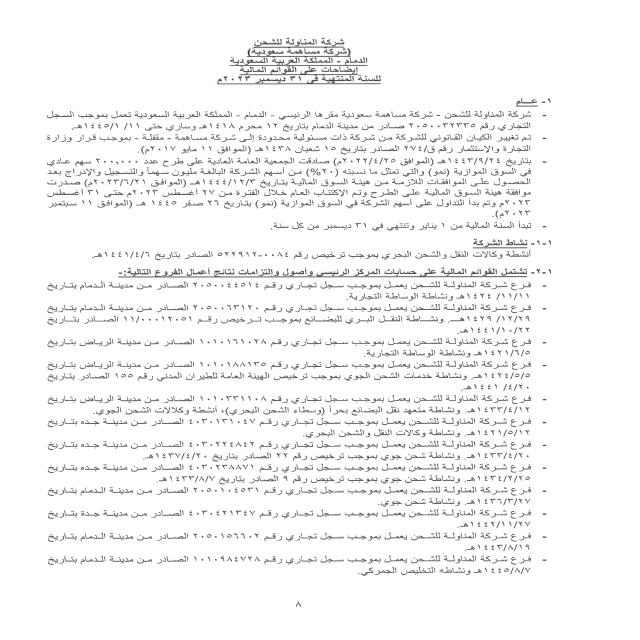notes: (228, 65, 364, 76)
text: (24, 98, 560, 591)
